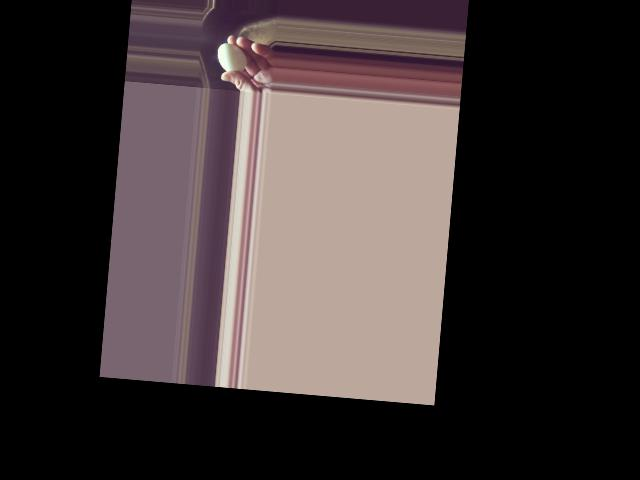egg: (216, 43, 248, 73)
